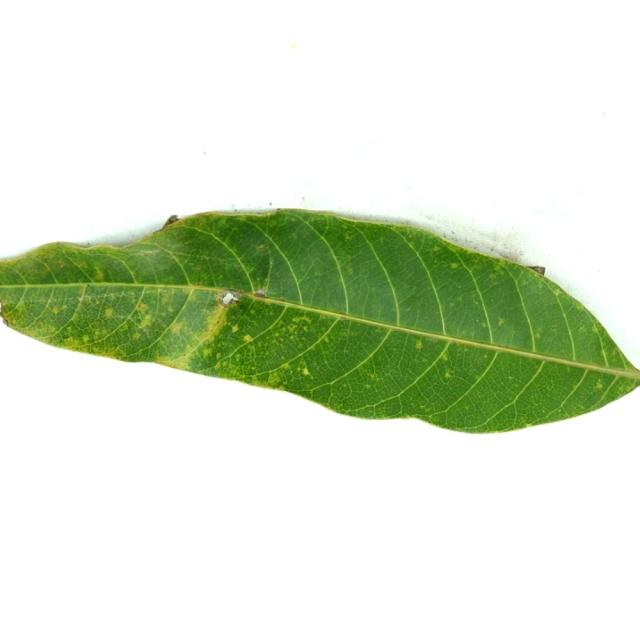Mango: (0, 209, 639, 431)
Powdery_Mildew: (218, 291, 239, 307), (162, 214, 180, 229), (282, 325, 299, 340), (411, 338, 425, 352), (11, 302, 26, 315), (139, 315, 153, 328), (267, 372, 281, 385), (137, 249, 163, 256), (160, 291, 171, 305), (214, 228, 229, 238), (171, 323, 184, 334), (93, 268, 104, 280), (65, 337, 78, 347), (290, 317, 303, 327), (343, 231, 356, 241), (456, 339, 470, 347), (202, 347, 213, 357), (254, 290, 267, 298), (44, 325, 55, 334), (551, 285, 562, 294), (97, 330, 107, 339), (577, 325, 587, 334), (488, 273, 498, 282), (339, 383, 349, 392), (523, 422, 535, 429), (104, 308, 113, 317), (368, 287, 377, 296), (246, 363, 255, 372), (281, 362, 291, 370), (595, 380, 603, 390), (440, 352, 448, 361), (497, 318, 506, 326), (534, 330, 542, 339), (302, 368, 310, 376), (591, 326, 599, 334), (346, 267, 354, 275), (336, 401, 344, 409), (50, 307, 59, 314), (137, 303, 146, 310), (191, 281, 203, 286), (231, 324, 239, 331), (244, 334, 252, 341), (132, 332, 140, 339), (214, 362, 222, 369), (323, 336, 331, 343), (420, 404, 428, 411), (339, 315, 348, 321), (215, 353, 222, 360), (369, 373, 376, 380), (83, 334, 90, 341), (450, 262, 458, 268), (289, 43, 297, 49), (444, 372, 451, 378), (410, 243, 417, 249), (257, 244, 265, 249), (481, 321, 487, 327), (449, 301, 455, 307), (473, 299, 479, 305), (365, 383, 372, 388), (508, 375, 514, 380), (59, 263, 65, 268), (266, 210, 271, 216), (475, 318, 480, 323), (216, 320, 220, 325), (87, 242, 91, 246), (203, 151, 206, 154)
